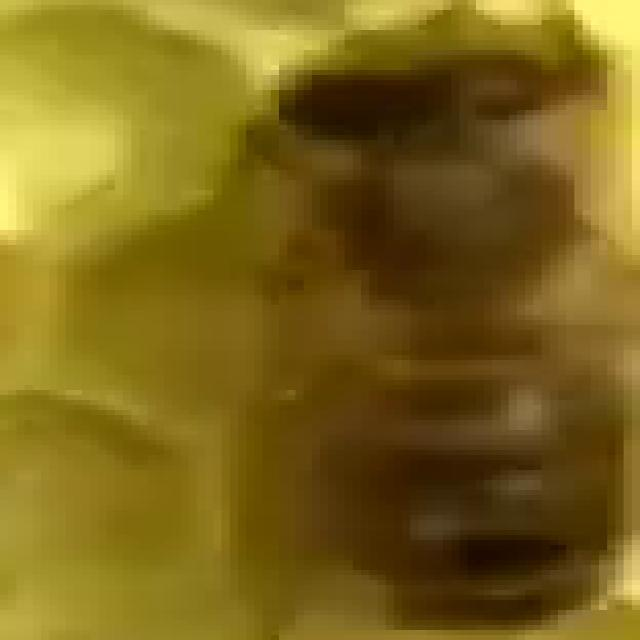honeybee: (230, 5, 632, 640)
